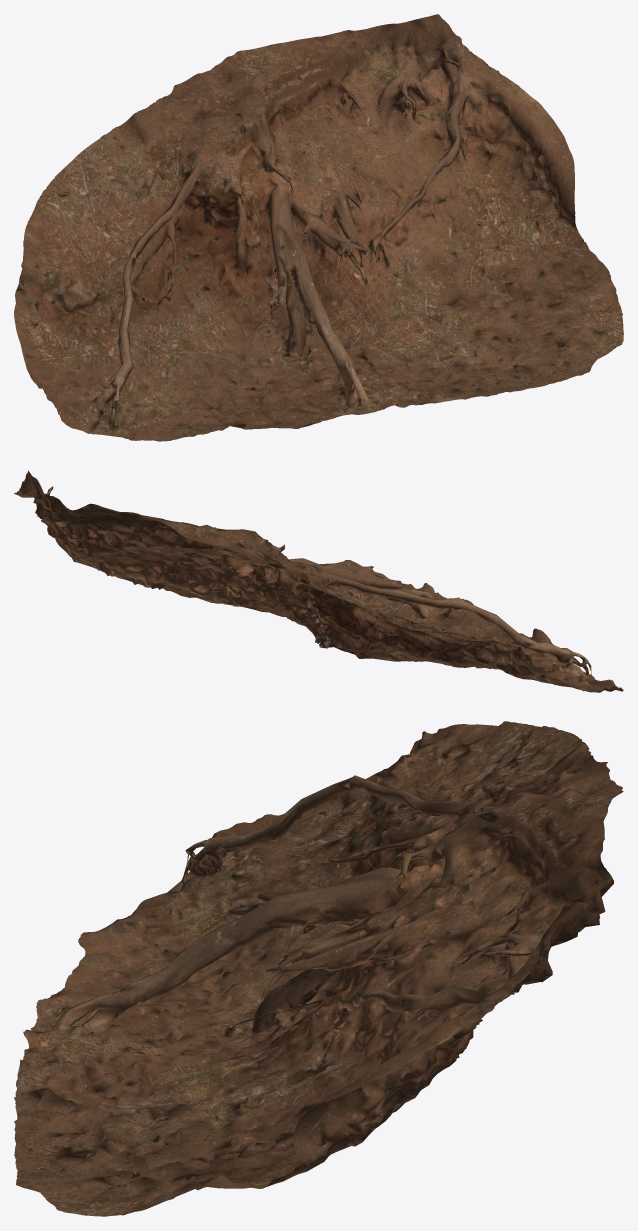
File: root_cluster_01.glb
3 renders of one model, top to bottom at view 1: azimuth 30°, elevation 25°; view 2: azimuth 150°, elevation 25°; view 3: azimuth 270°, elevation 25°, orthographic. The views are drawn at different scales.
Visible parts, largest first — view 1: root_cluster_01; view 2: root_cluster_01; view 3: root_cluster_01.
Part boxes in pixels (x1,y1,x2,y2): root_cluster_01: (14, 14, 623, 441); root_cluster_01: (14, 470, 623, 692); root_cluster_01: (14, 721, 623, 1216).
Bounding box in the file's own units: 4.12 × 1.51 × 2.68.
1 material, 1 textured.
